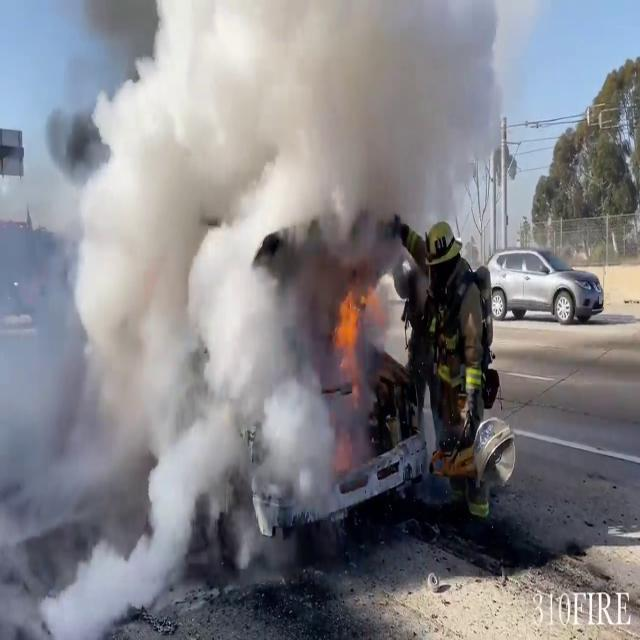Fire: (331, 273, 374, 372)
Smoke: (1, 0, 427, 625)
